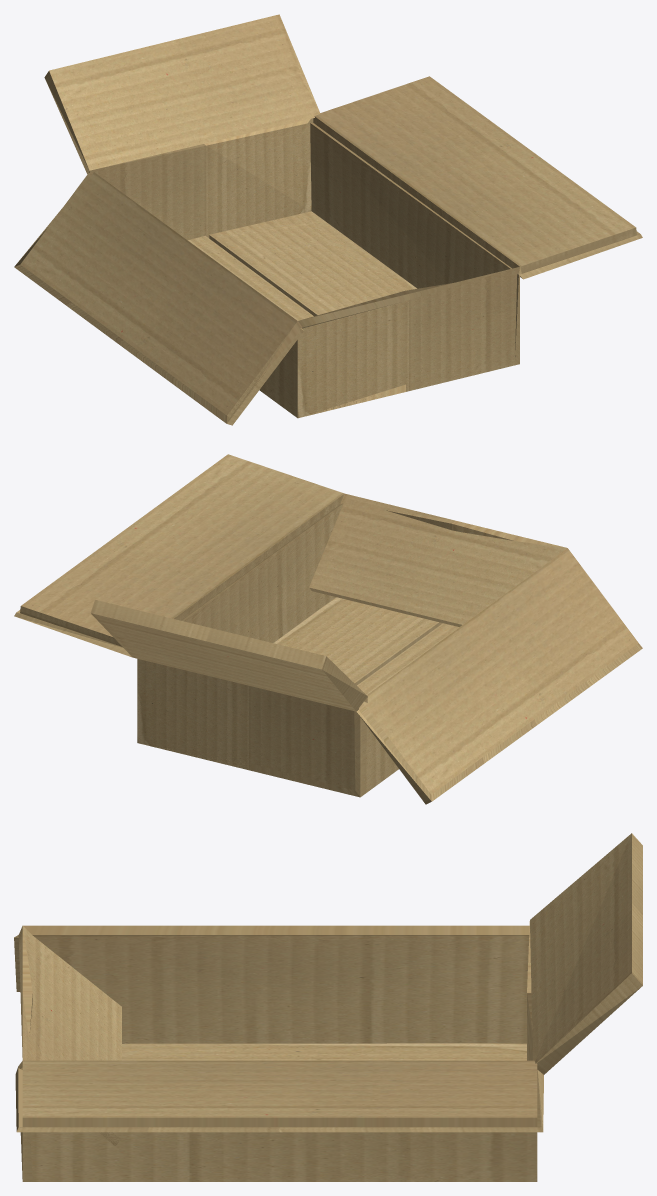
File: cardboardBoxSmallOpen2.fbx
3 views of the same model, one above another, from view 1: azimuth 30°, elevation 25°; view 2: azimuth 150°, elevation 25°; view 3: azimuth 270°, elevation 25° (orthographic). The views are drawn at different scales.
Visible parts, largest first — view 1: Cube; view 2: Cube; view 3: Cube.
Part boxes in pixels (x1=…): Cube: x1=14, y1=14, x2=642, y2=425; Cube: x1=14, y1=454, x2=642, y2=804; Cube: x1=14, y1=833, x2=642, y2=1181.
Size of the model in its own units: 233 by 90.59 by 244.
Materials: 1 (1 with a texture image).
